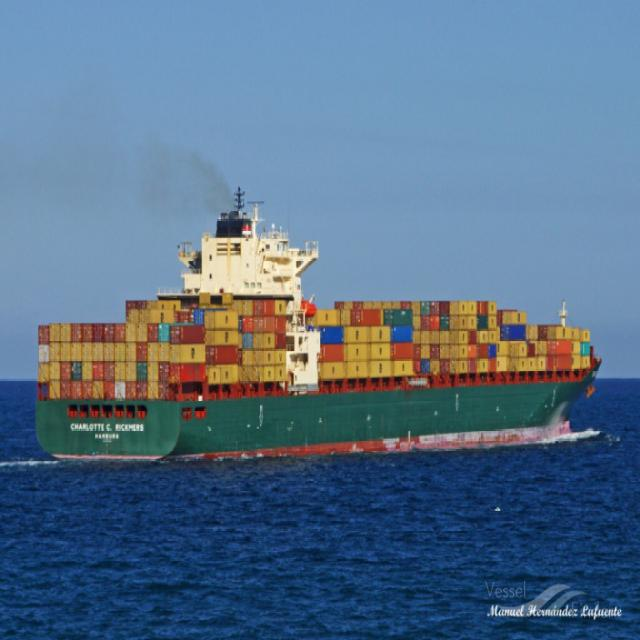Container Ship: (36, 212, 600, 451)
